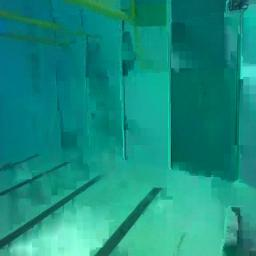Full: (228, 0, 248, 13)
